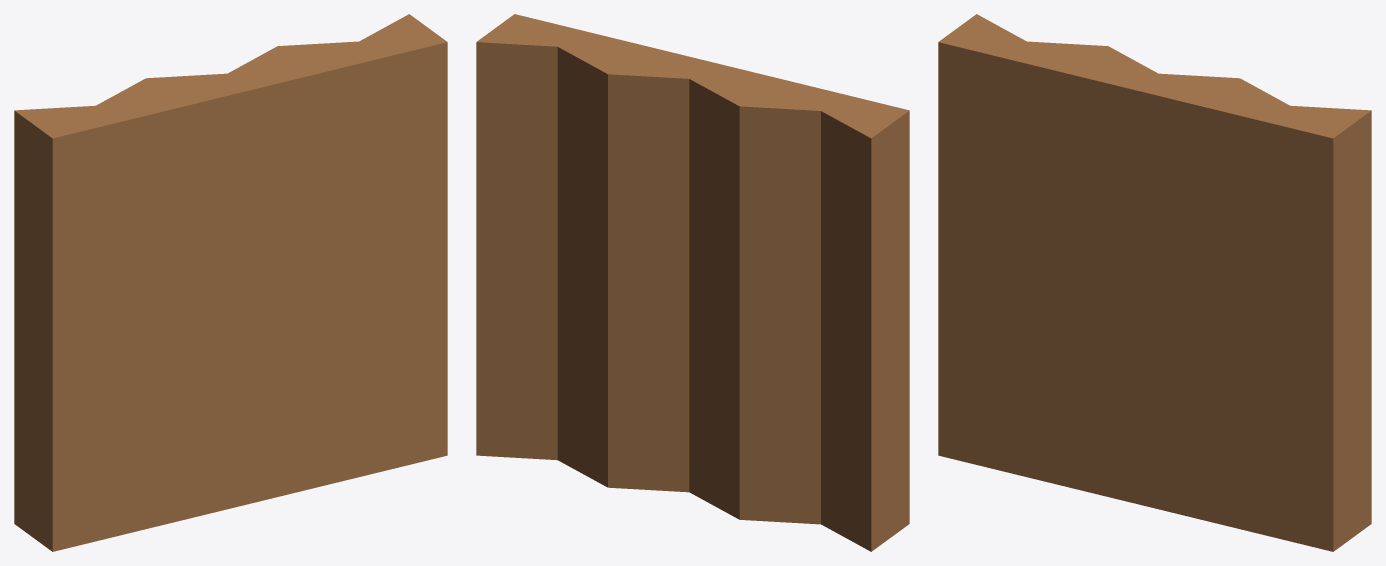
File: cliff_rock.glb
The picture shows the model from 3 angles, left to right: view 1: azimuth 30°, elevation 25°; view 2: azimuth 150°, elevation 25°; view 3: azimuth 330°, elevation 25°; orthographic projection.
Visible parts, largest first — view 1: cliff_rock; view 2: cliff_rock; view 3: cliff_rock.
Part boxes in pixels (x1,y1,x2,y2): cliff_rock: [14, 14, 447, 551]; cliff_rock: [476, 14, 909, 551]; cliff_rock: [938, 14, 1371, 551].
Size of the model in its own units: 1 by 1 by 0.1685.
